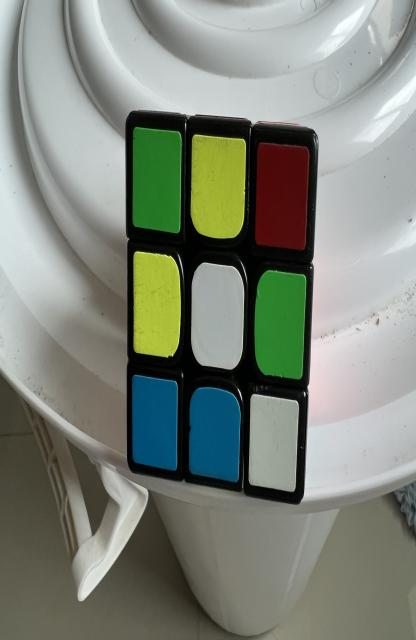Blue: (188, 387, 240, 483), (132, 375, 178, 470)
Green: (254, 270, 306, 380), (132, 127, 182, 233)
Red: (255, 142, 310, 250)
White: (191, 262, 245, 370), (249, 393, 299, 492)
Yellow: (190, 135, 246, 238), (133, 252, 180, 358)
